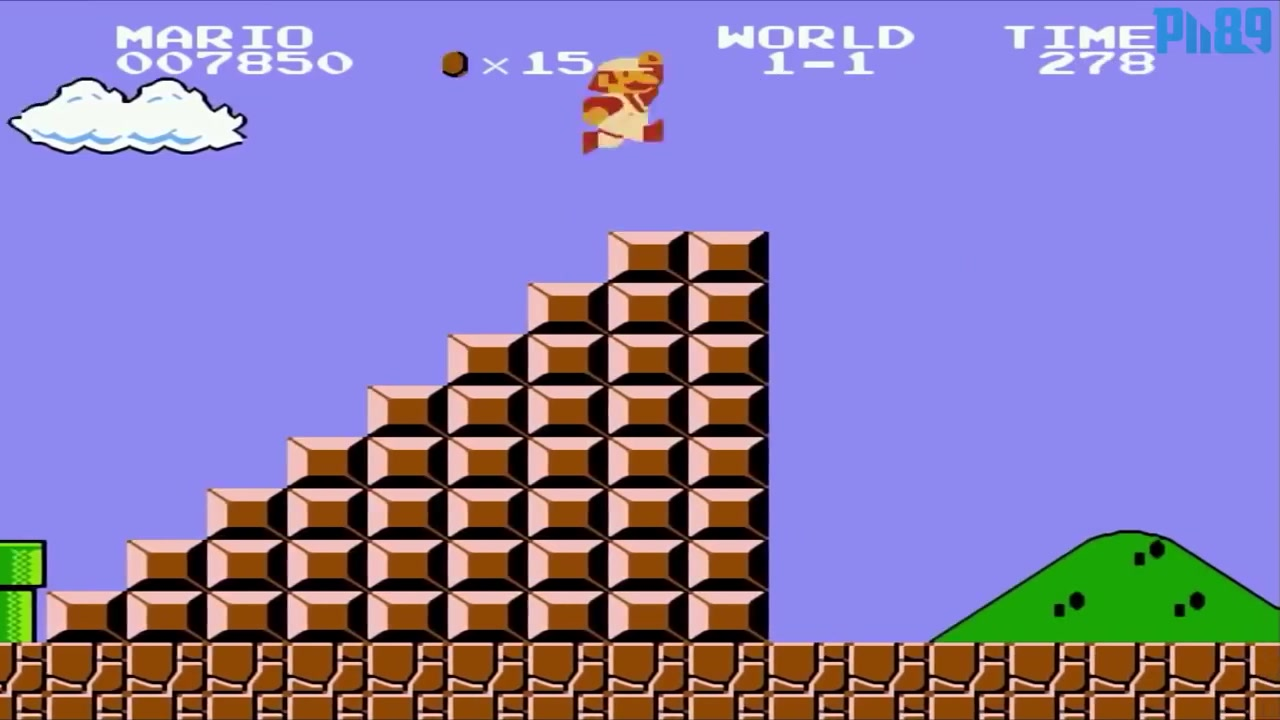mario: (573, 45, 675, 163)
